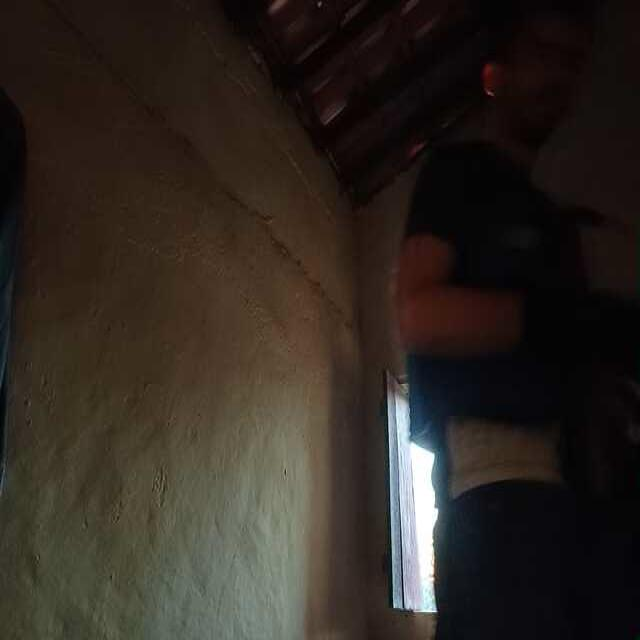colete: (401, 146, 591, 434)
pessoa: (405, 2, 594, 629)
